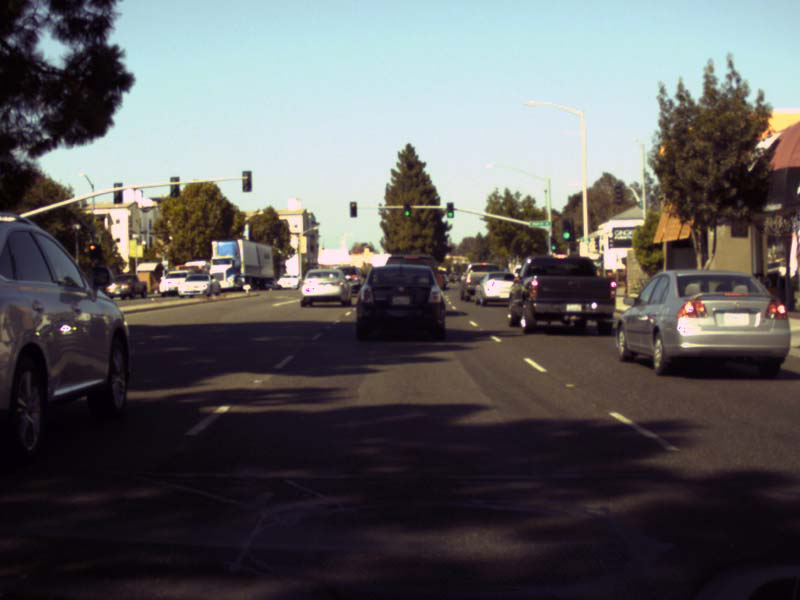Green: (561, 217, 574, 241), (446, 202, 454, 218), (550, 235, 557, 251), (404, 202, 410, 216)
Red: (88, 243, 98, 259), (349, 201, 357, 218)
